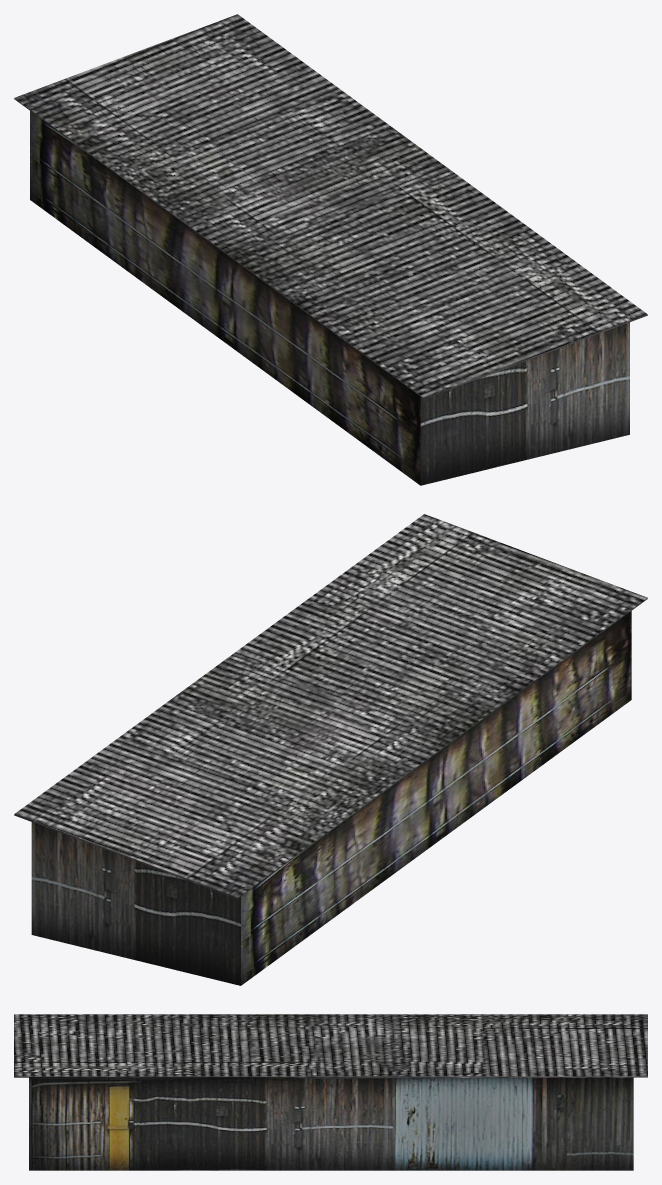
Rendered from d_put_budka_41.FBX.
The picture shows the model from 3 angles, top to bottom: view 1: azimuth 30°, elevation 25°; view 2: azimuth 150°, elevation 25°; view 3: azimuth 270°, elevation 25°; orthographic projection. The views are drawn at different scales.
Visible parts, largest first — view 1: d_put_budka_41; view 2: d_put_budka_41; view 3: d_put_budka_41.
Part boxes in pixels (x1,y1,x2,y2): d_put_budka_41: (14, 14, 647, 485); d_put_budka_41: (14, 514, 647, 985); d_put_budka_41: (14, 1014, 647, 1170).
Size of the model in its own units: 5.41 by 17.13 by 2.9.
